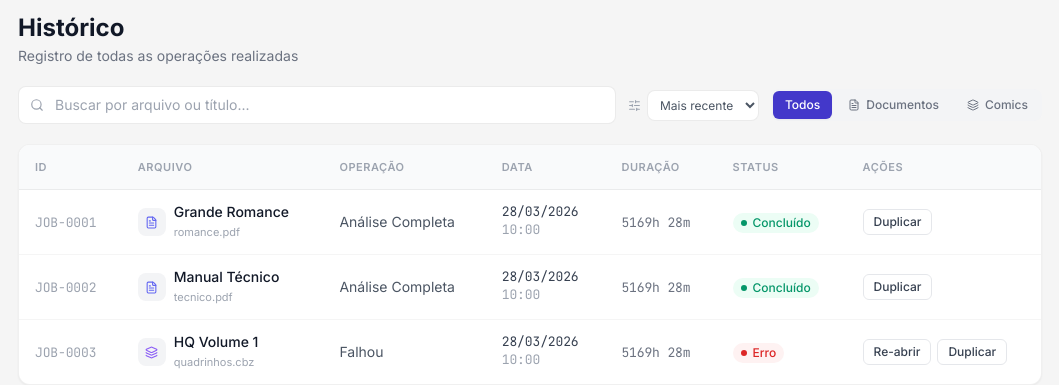
Scenario: HistoryPage — busca e filtros › busca filtra por nome de arquivo
Expected: the text "romance.pdf" is shown, [174,225,240,239]
Type "tecnico" into the search field with placeholder "Buscar por arquivo ou título...".
click(317, 105); type("tecnico")  # box [18,86,616,124]
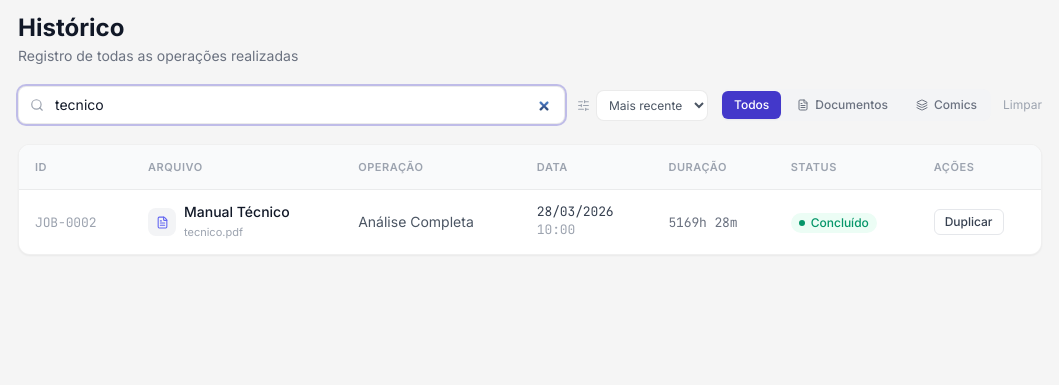
Expected: the text "tecnico.pdf" is shown, [184,225,243,239]
Now the text "romance.pdf" is gone
